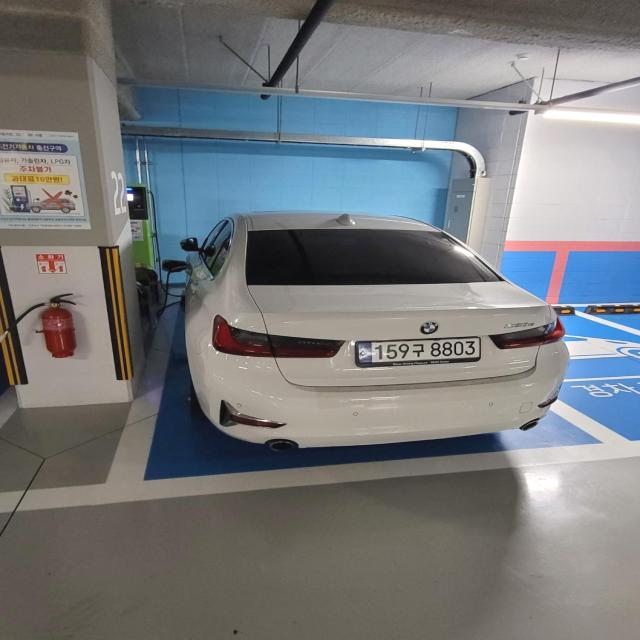car: (176, 205, 574, 454)
illegal_plate: (356, 336, 482, 372)
